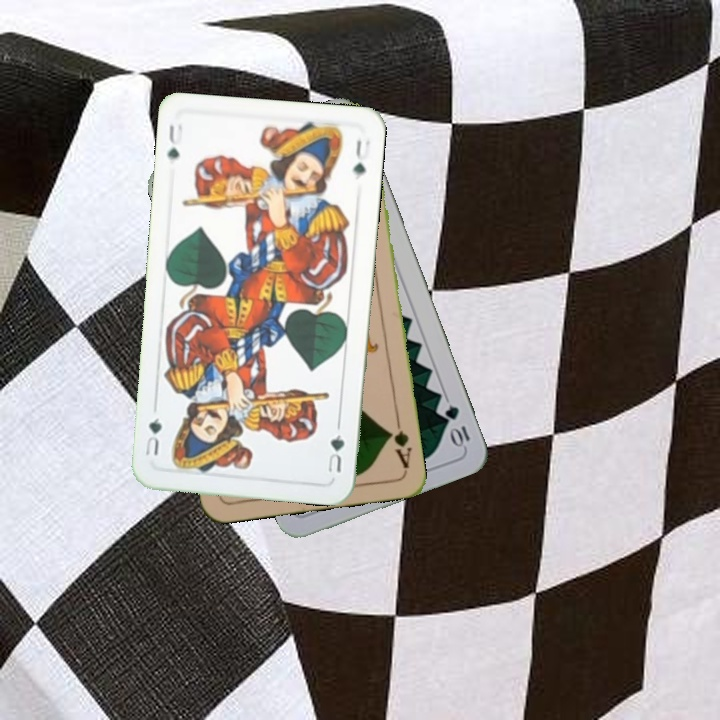G10: (441, 401, 473, 450)
GA: (384, 413, 414, 471)
GU: (324, 420, 347, 475), (163, 120, 186, 163)
